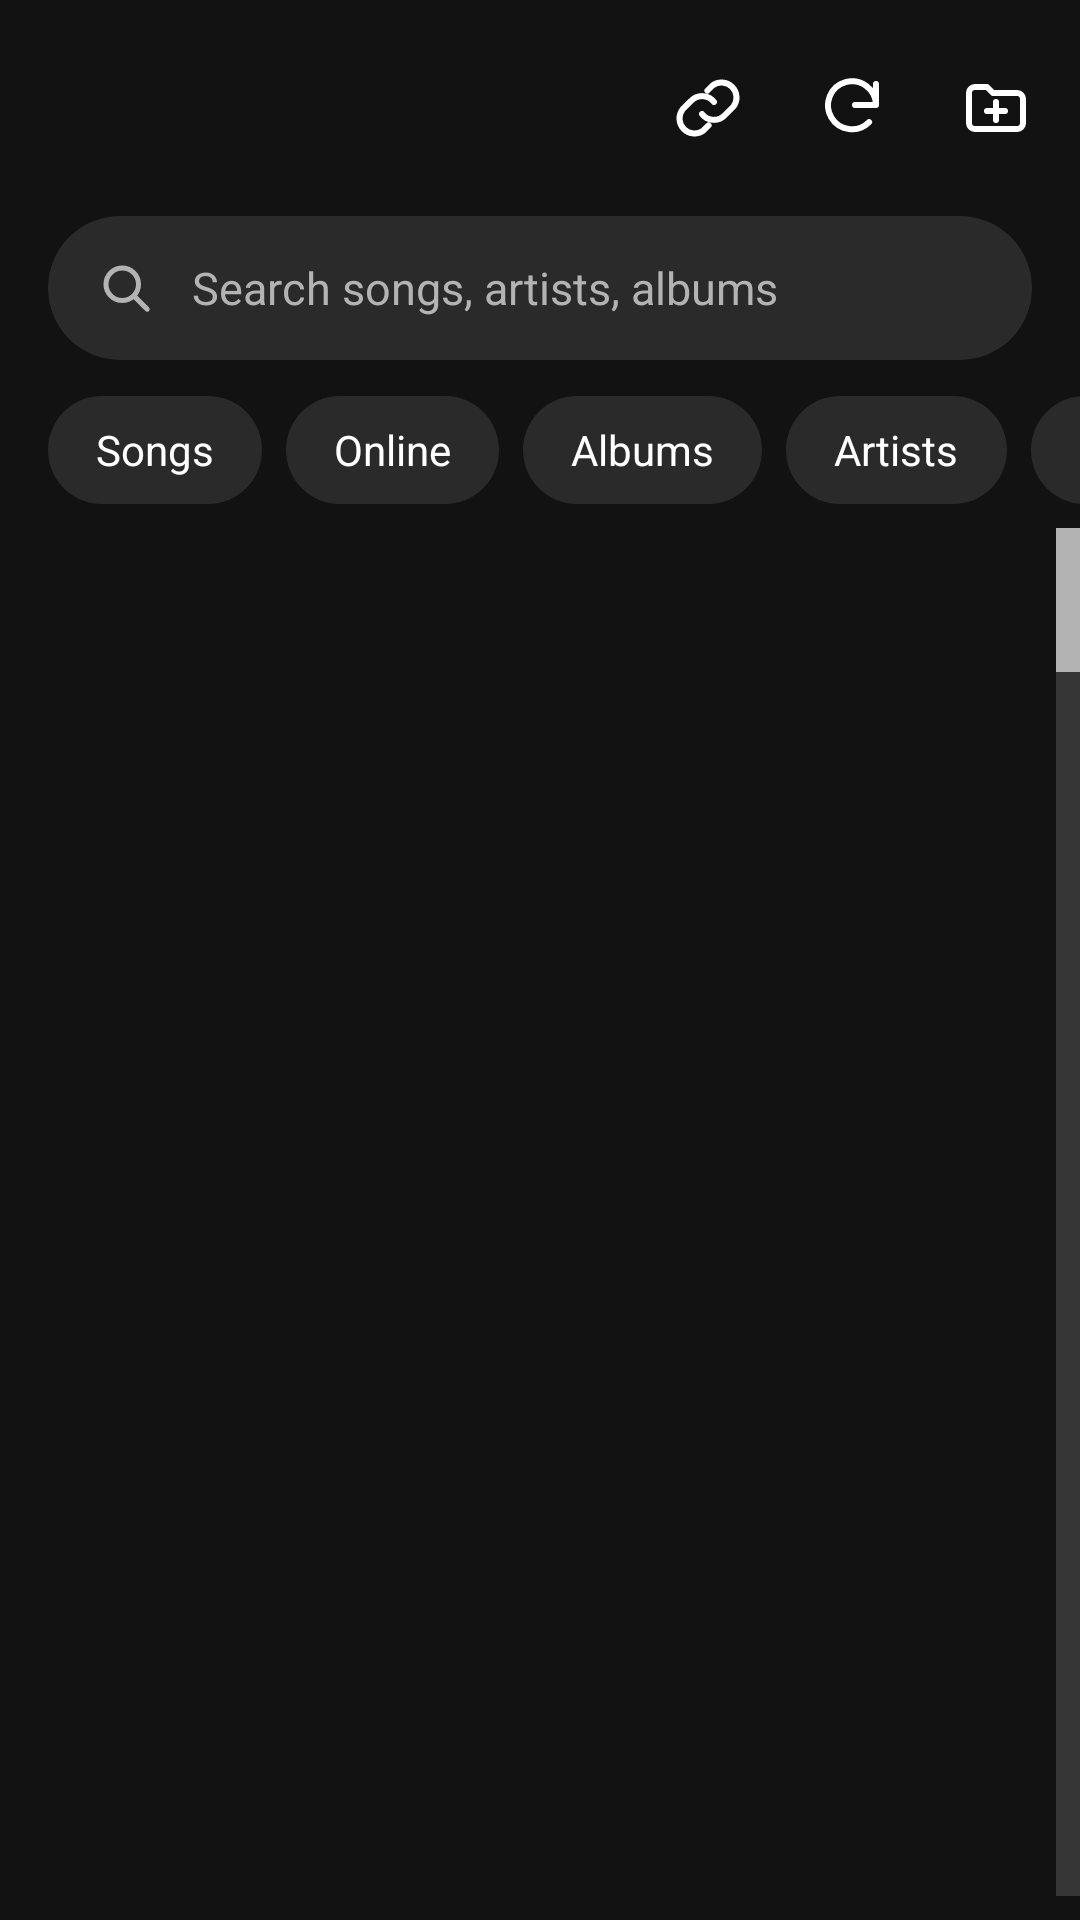

Where icons sit on this 1080px×1920px app screen, as (x1, y1, x2, y2):
Add online song: (676, 79, 740, 137)
Open audio file: (966, 84, 1026, 132)
Rescan music: (825, 78, 879, 133)
